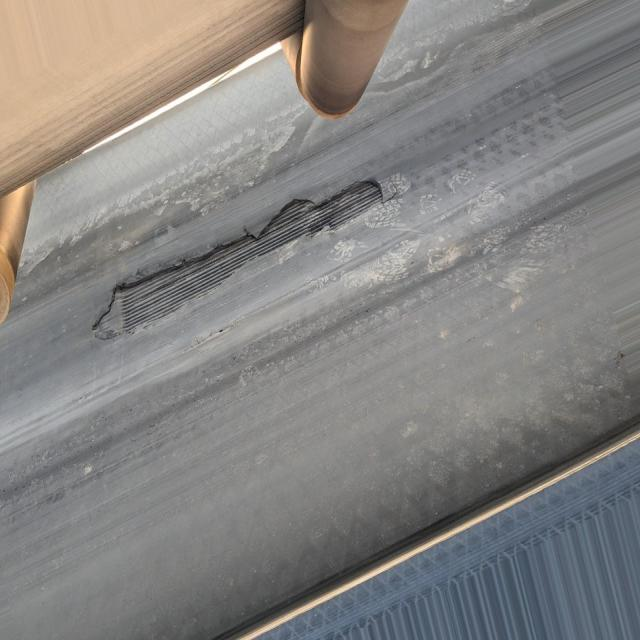Roller: (280, 0, 409, 119), (2, 183, 40, 316)
Tear: (94, 175, 389, 341)
